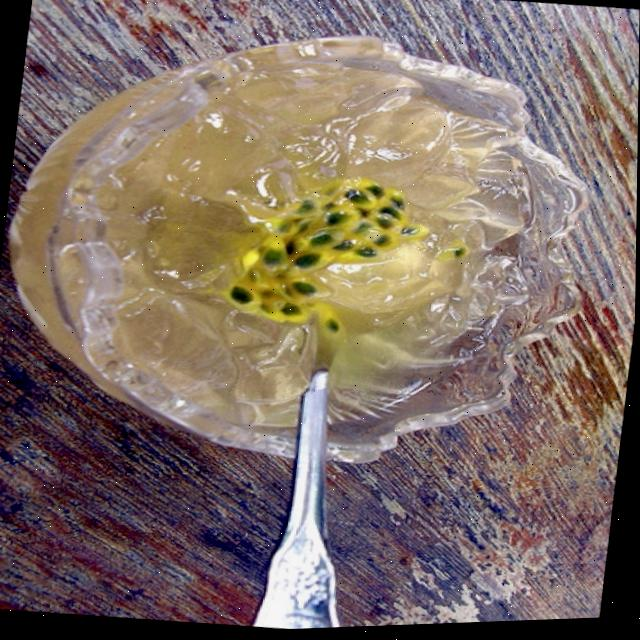蛋糕甜品: (3, 2, 613, 519)
